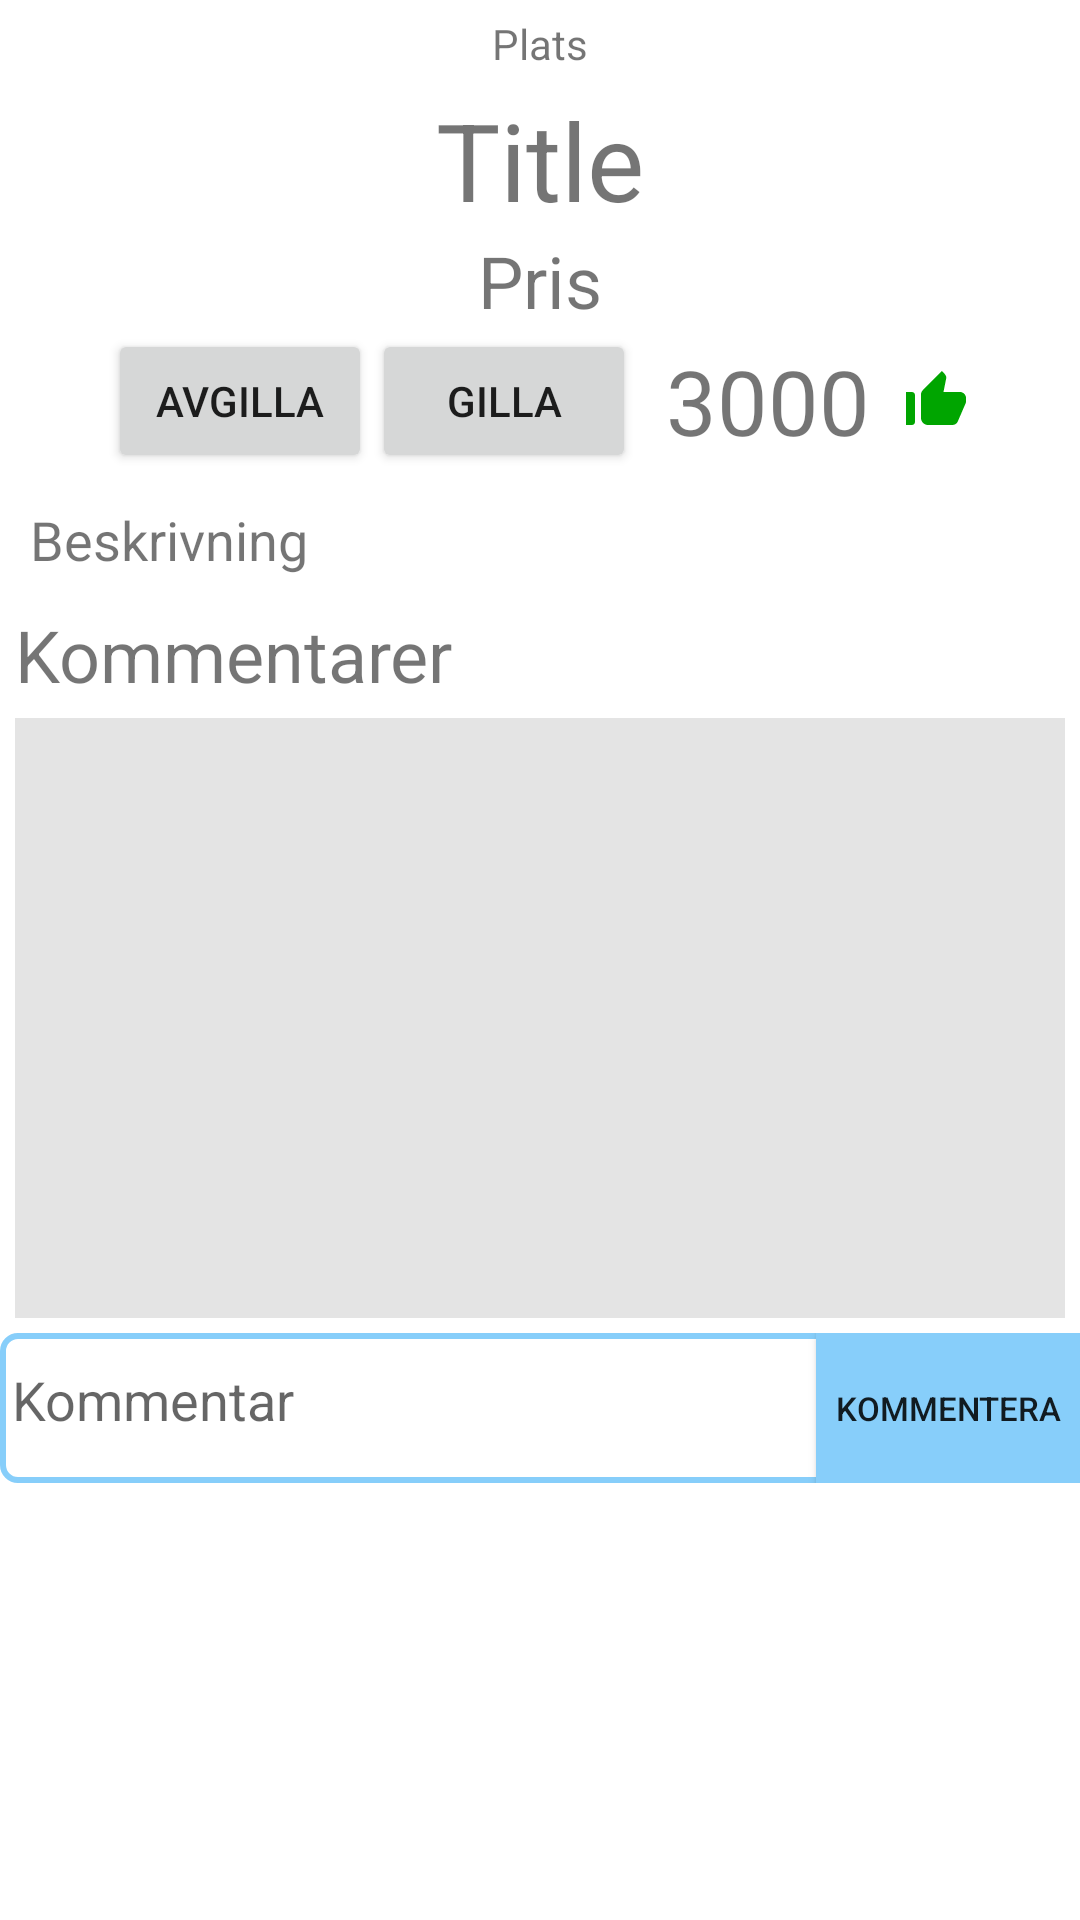

Icon click points for this 1080×1920 phone screenshot, format (x,y):
thumb up: (936,398)
